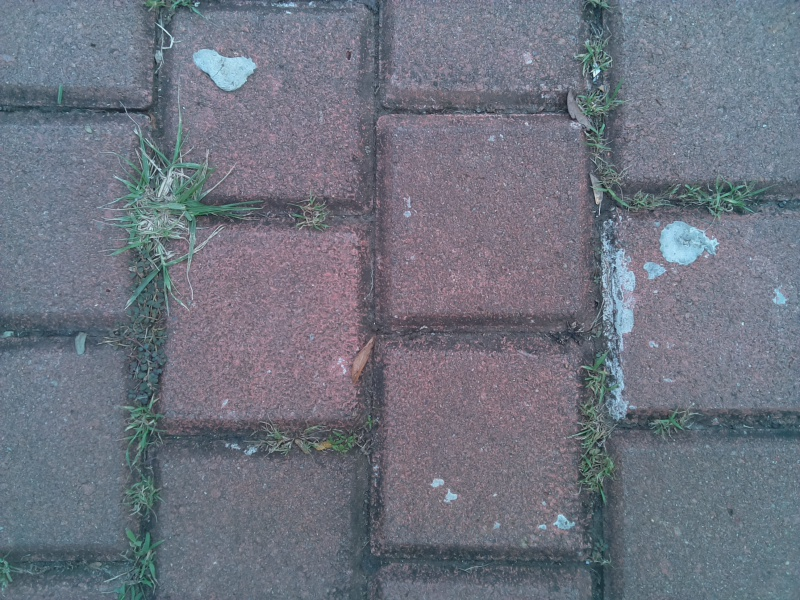Weed: (118, 137, 259, 289), (570, 345, 630, 502), (116, 275, 182, 388), (696, 172, 766, 228), (111, 525, 173, 588), (245, 414, 323, 464), (576, 121, 627, 193), (111, 398, 175, 452), (642, 400, 702, 451), (621, 180, 681, 228), (324, 418, 381, 465), (286, 188, 341, 236), (571, 33, 627, 80), (125, 464, 167, 520), (573, 82, 630, 121), (580, 536, 616, 573)
